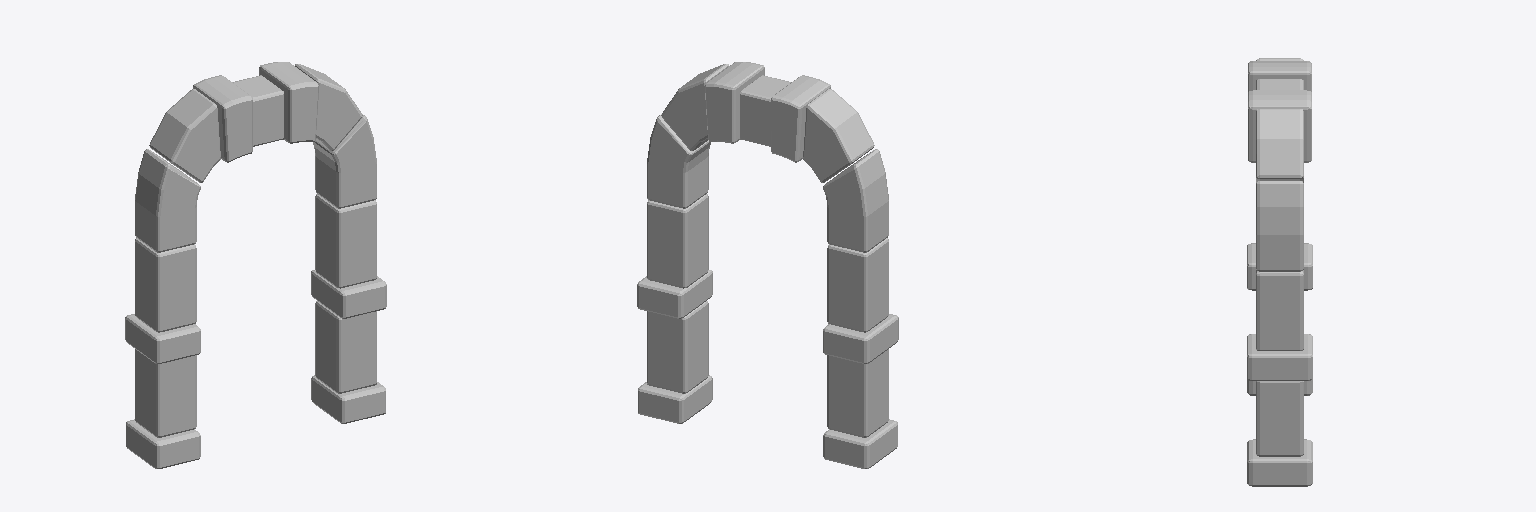
The model's file is stoneArch.obj.
3 renders of one model, left to right at view 1: azimuth 30°, elevation 25°; view 2: azimuth 150°, elevation 25°; view 3: azimuth 270°, elevation 25°, orthographic.
Parts seen in each view (by area): view 1: stoneArchHall Hall; view 2: stoneArchHall Hall; view 3: stoneArchHall Hall.
Part boxes in pixels (left/top/right/bottom): stoneArchHall Hall: left=125, top=62, right=386, bottom=468; stoneArchHall Hall: left=637, top=62, right=898, bottom=468; stoneArchHall Hall: left=1247, top=58, right=1312, bottom=486.
Bounding box in the file's own units: 9.49 × 13.72 × 2.37.